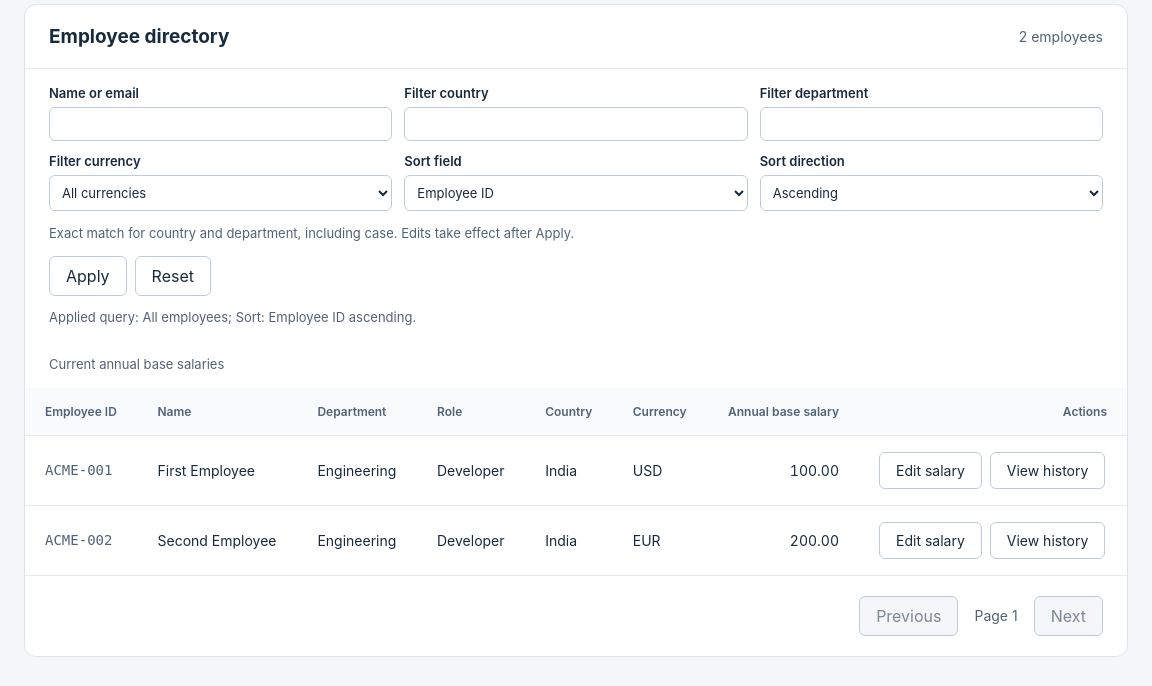
Scenario: does not refresh history after server update failure
(page scrolled)
Click the button with aria-label "View history for ACME-001" at point(1048, 470), box [990, 452, 1105, 489]
(page scrolled)
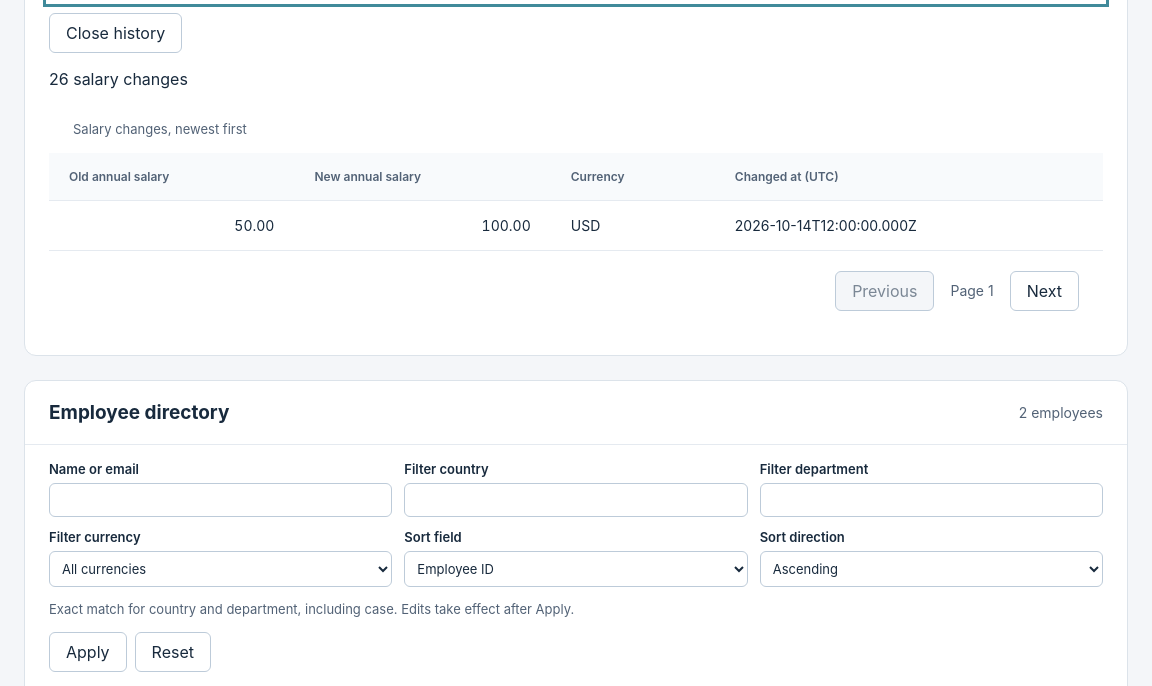
Click the button "Next" at point(1044, 291), box [1010, 271, 1079, 311]
(page scrolled)
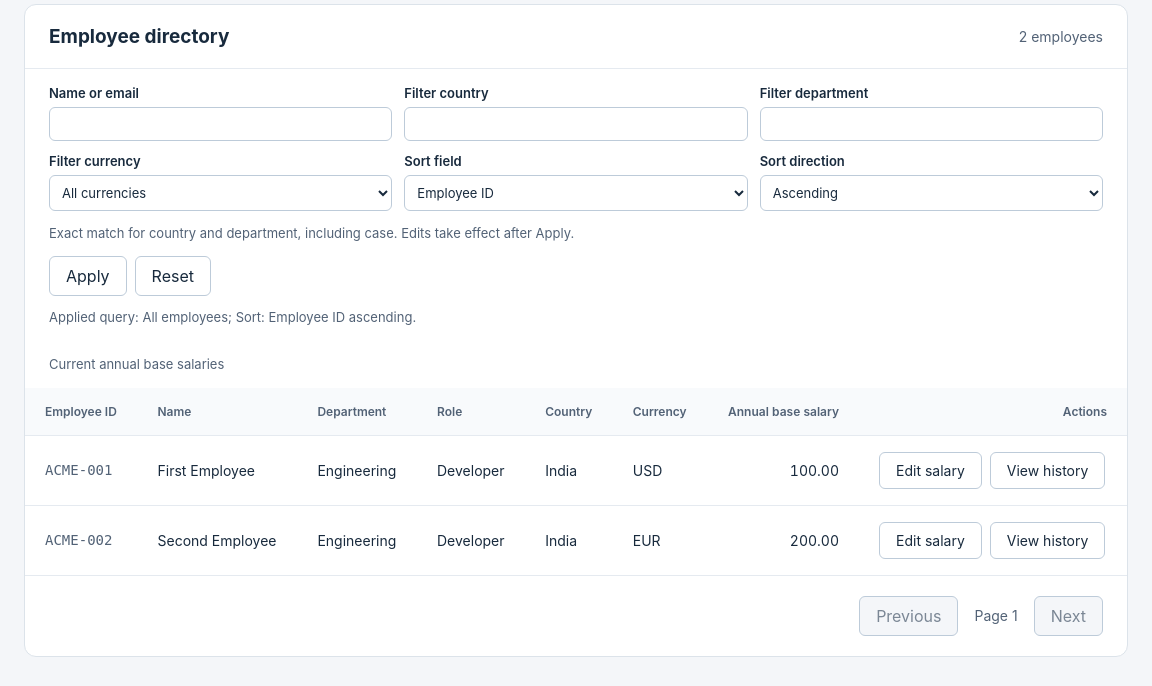
Click the button with aria-label "Edit salary for ACME-001" at point(930, 470), box [879, 452, 982, 489]
(page scrolled)
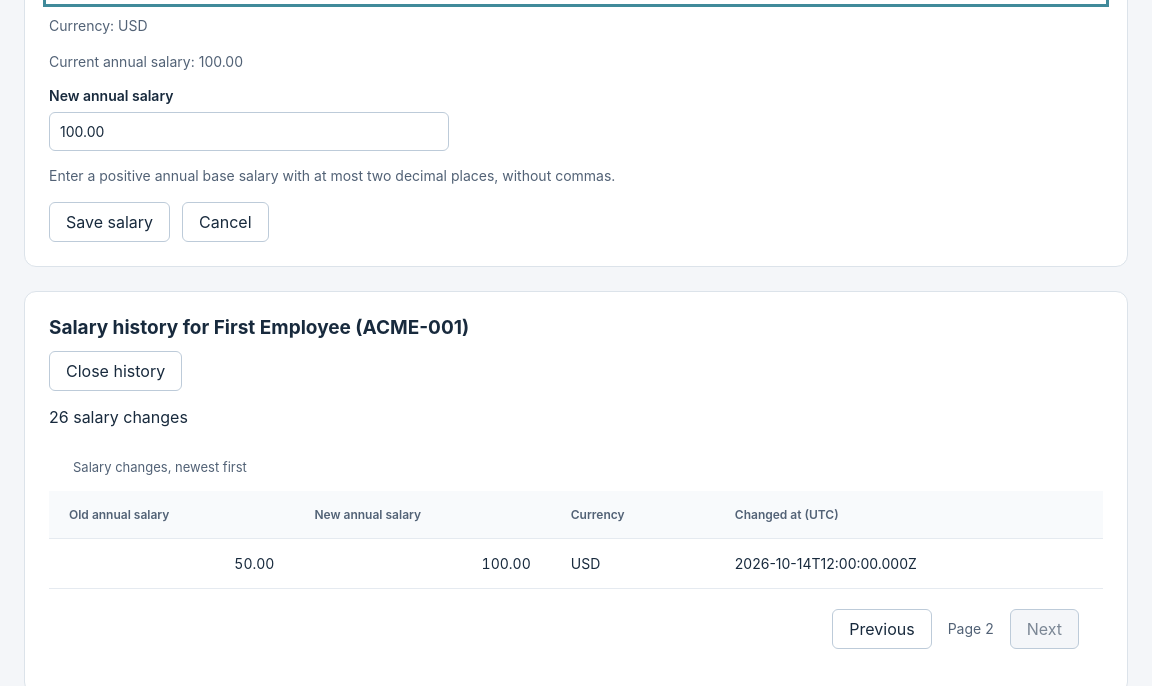
Click the button "Save salary" at point(110, 222), box [49, 202, 170, 242]
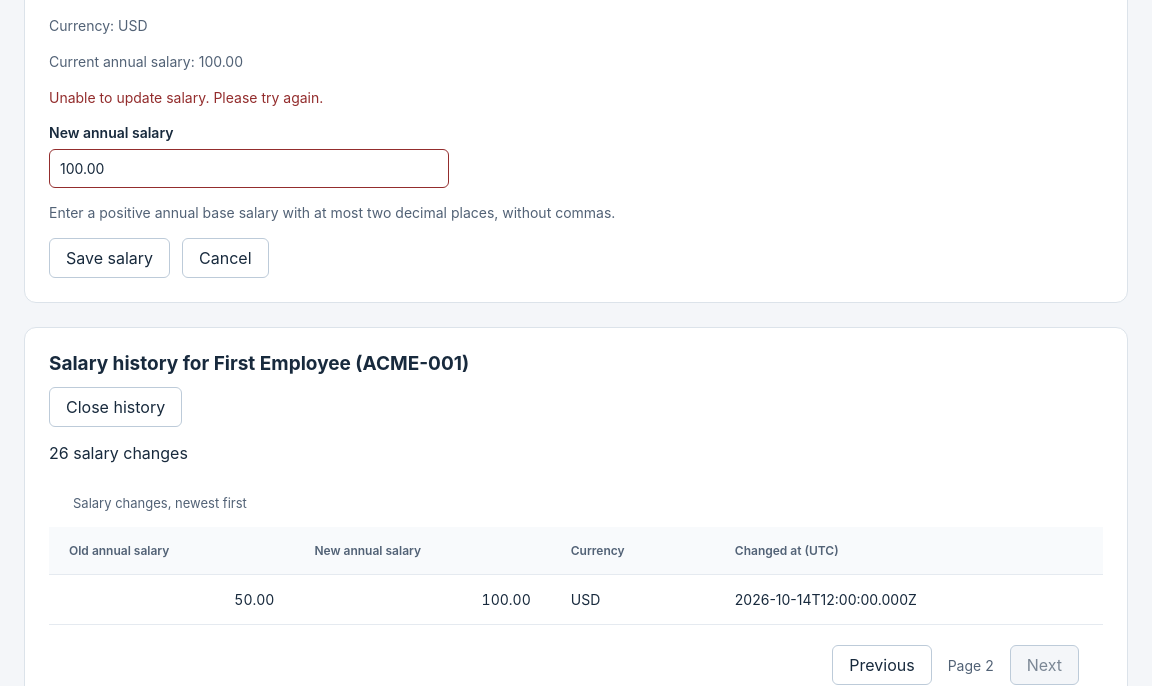
Expected: the message "Unable to update salary. Please try again." is shown, [49, 89, 323, 106]
